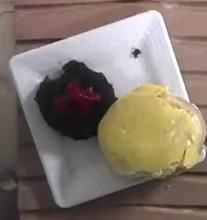dessert: (97, 83, 204, 176), (34, 60, 116, 139)
